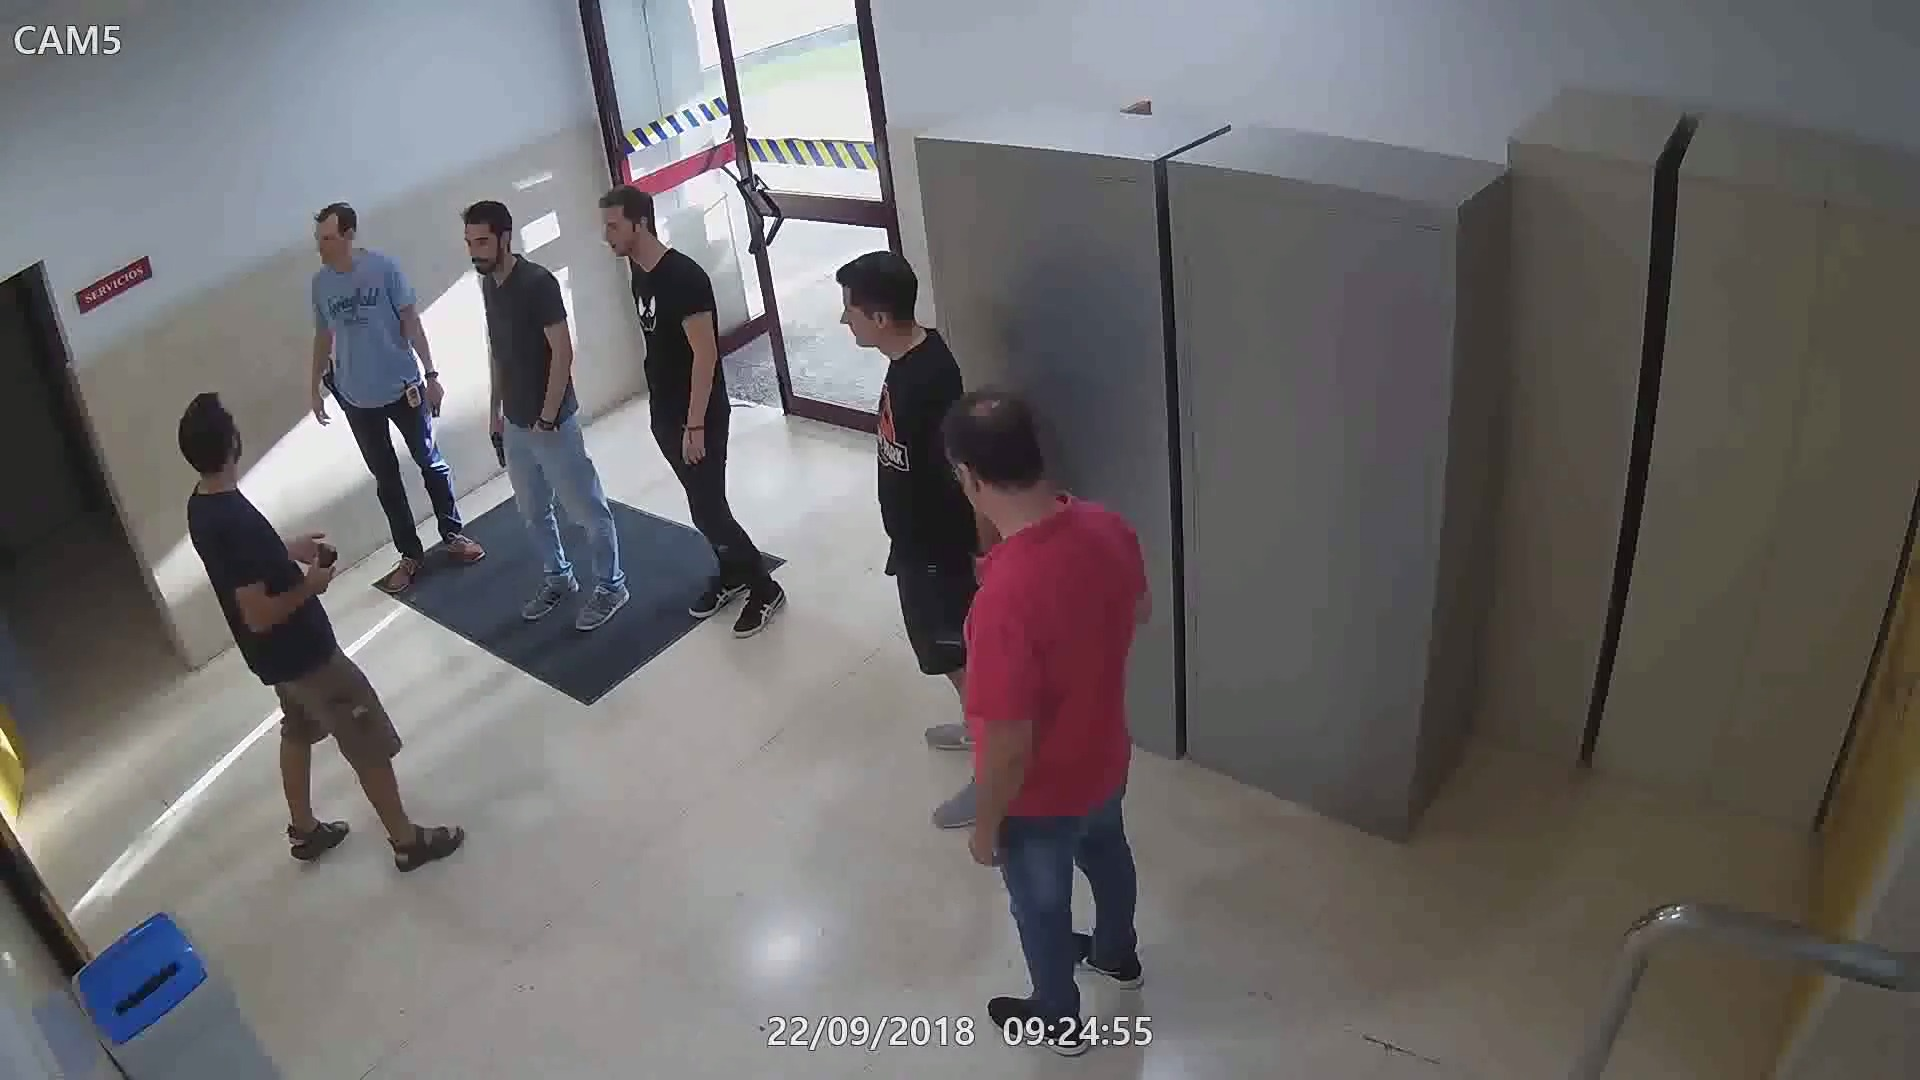Handgun: (301, 531, 353, 600), (480, 411, 517, 473), (316, 353, 342, 404), (882, 529, 902, 580)
Knife: (421, 375, 448, 465)
